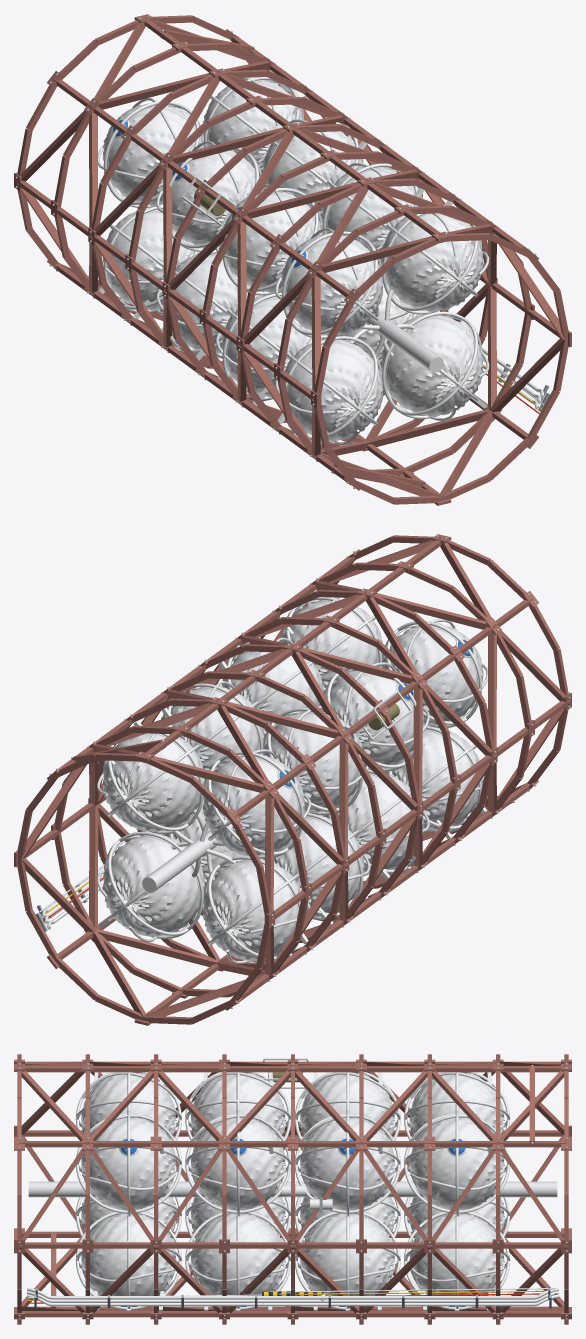
The model's file is tank-12-rcs.glb.
The picture shows the model from 3 angles, top to bottom: view 1: azimuth 30°, elevation 25°; view 2: azimuth 150°, elevation 25°; view 3: azimuth 270°, elevation 25°; orthographic projection. The views are drawn at different scales.
Parts seen in each view (by area): view 1: rcs_red_box_truss, rcs_sphere_3_3, rcs_sphere_3_0, rcs_sphere_3_2, rcs_sphere_3_1, rcs_sphere_0_1, rcs_sphere_1_1, rcs_sphere_2_1, rcs_sphere_0_2, rcs_surface_gas_lines, rcs_sphere_0_0, rcs_sphere_1_2 (+9 smaller); view 2: rcs_red_box_truss, rcs_sphere_0_3, rcs_sphere_0_2, rcs_sphere_0_0, rcs_sphere_0_1, rcs_sphere_3_1, rcs_sphere_2_1, rcs_sphere_1_1, rcs_sphere_3_2, rcs_sphere_3_0, rcs_surface_gas_lines, rcs_sphere_2_2 (+9 smaller); view 3: rcs_red_box_truss, rcs_white_external_pipe_bundle, rcs_sphere_3_0, rcs_sphere_2_3, rcs_sphere_0_0, rcs_sphere_1_3, rcs_sphere_2_0, rcs_sphere_1_0, rcs_surface_gas_lines, rcs_sphere_3_3, rcs_sphere_0_3, rcs_sphere_2_1 (+33 smaller).
Boxes of the visible parts, x1,y1,x2,y2 form: rcs_red_box_truss: (14,14,571,505); rcs_sphere_3_3: (381,314,483,416); rcs_sphere_3_0: (381,213,483,312); rcs_sphere_3_2: (285,339,382,441); rcs_sphere_3_1: (281,233,382,335); rcs_sphere_0_1: (102,103,204,205); rcs_sphere_1_1: (162,148,263,249); rcs_sphere_2_1: (221,191,323,292); rcs_sphere_0_2: (103,208,203,310); rcs_surface_gas_lines: (98,77,489,445); rcs_sphere_0_0: (203,80,303,173); rcs_sphere_1_2: (162,253,263,353); rcs_red_box_truss: (14,534,571,1025); rcs_sphere_0_3: (102,834,204,936); rcs_sphere_0_2: (202,858,301,961); rcs_sphere_0_0: (102,733,204,831); rcs_sphere_0_1: (202,753,305,855); rcs_sphere_3_1: (381,623,483,725); rcs_sphere_2_1: (322,666,423,769); rcs_sphere_1_1: (262,711,364,812); rcs_sphere_3_2: (385,728,483,830); rcs_sphere_3_0: (281,598,382,693); rcs_surface_gas_lines: (97,597,487,963); rcs_sphere_2_2: (322,773,423,873); rcs_red_box_truss: (14,1054,571,1324); rcs_white_external_pipe_bundle: (27,1287,558,1306); rcs_sphere_3_0: (81,1117,176,1210); rcs_sphere_2_3: (190,1213,285,1295); rcs_sphere_0_0: (409,1117,504,1210); rcs_sphere_1_3: (300,1213,395,1295); rcs_sphere_2_0: (190,1117,285,1210); rcs_sphere_1_0: (300,1117,395,1210); rcs_surface_gas_lines: (82,1072,503,1295); rcs_sphere_3_3: (81,1213,176,1295); rcs_sphere_0_3: (409,1213,504,1295); rcs_sphere_2_1: (190,1072,285,1139).
Size of the model in its own units: 6.01 by 6.03 by 12.24.
